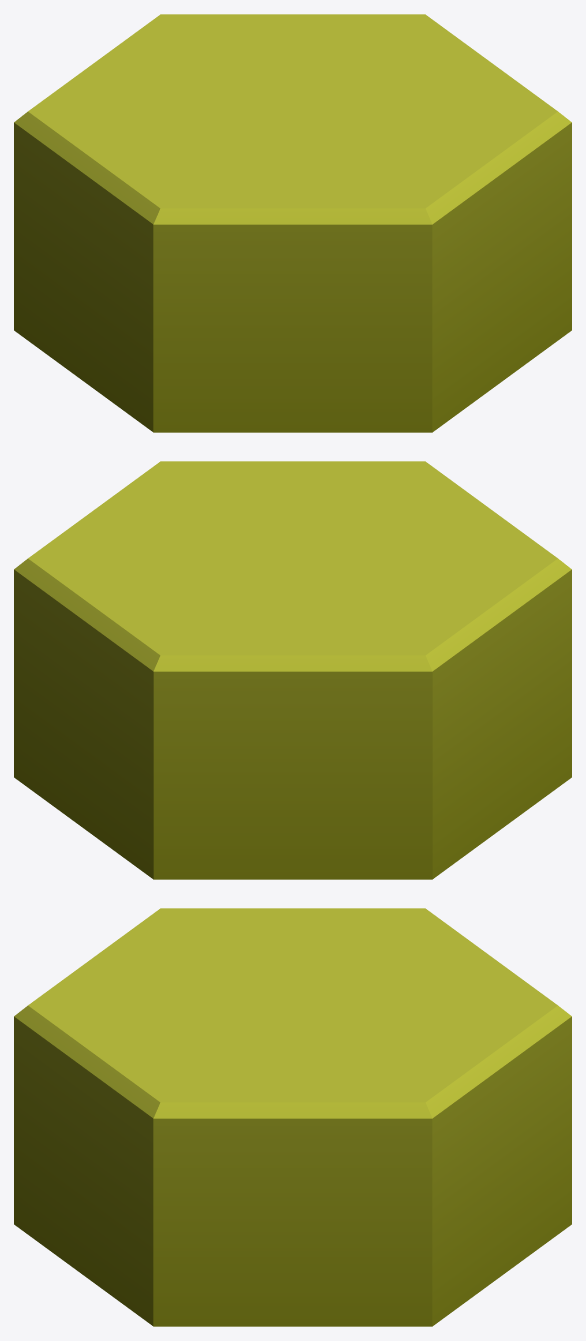
Rendered from hex_grass.gltf.
3 views of the same model, one above another, from view 1: azimuth 30°, elevation 25°; view 2: azimuth 150°, elevation 25°; view 3: azimuth 270°, elevation 25° (orthographic).
Parts seen in each view (by area): view 1: hex_grass; view 2: hex_grass; view 3: hex_grass.
Part boxes in pixels (bbox=[...]): hex_grass: bbox=[14, 14, 571, 432]; hex_grass: bbox=[14, 461, 571, 879]; hex_grass: bbox=[14, 908, 571, 1326].
Bounding box in the file's own units: 2 × 1 × 2.31.
Materials: 1 (1 with a texture image).
